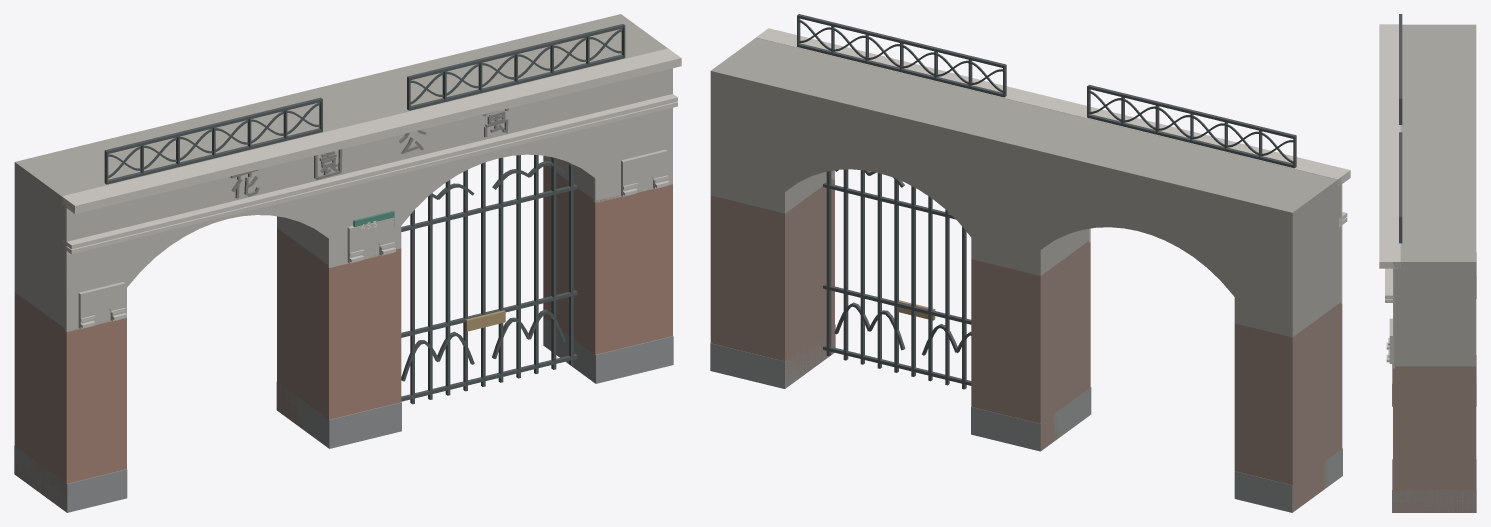
Rendered from huangpu-park-apartments-twin-arched-passage-lod.glb.
3 views of the same model, side by side, from view 1: azimuth 30°, elevation 25°; view 2: azimuth 150°, elevation 25°; view 3: azimuth 270°, elevation 25° (orthographic). The views are drawn at different scales.
Parts seen in each view (by area): view 1: 派克公寓455弄双拱题名门廊; view 2: 派克公寓455弄双拱题名门廊; view 3: 派克公寓455弄双拱题名门廊.
Boxes of the visible parts, x1=… form: 派克公寓455弄双拱题名门廊: x1=14, y1=14, x2=681, y2=512; 派克公寓455弄双拱题名门廊: x1=710, y1=14, x2=1350, y2=512; 派克公寓455弄双拱题名门廊: x1=1379, y1=14, x2=1476, y2=512.
Size of the model in its own units: 8.16 by 4.47 by 1.41.
